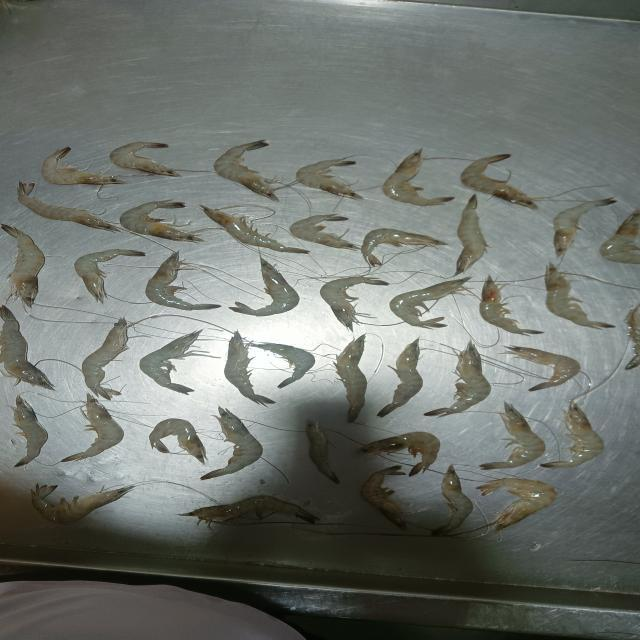shrimp: (397, 465, 472, 533), (18, 182, 122, 231), (425, 340, 490, 415), (203, 206, 306, 251), (545, 263, 615, 327), (201, 406, 262, 479), (140, 329, 208, 394), (1, 305, 53, 389), (214, 140, 286, 200), (180, 496, 315, 528), (60, 394, 123, 462), (481, 403, 545, 469), (146, 252, 219, 309), (390, 276, 471, 327), (461, 154, 538, 207), (479, 478, 556, 531), (541, 402, 603, 467), (383, 149, 454, 205), (32, 484, 135, 522), (231, 257, 298, 315), (82, 318, 128, 399), (553, 198, 615, 256), (75, 249, 144, 301), (224, 330, 273, 403), (1, 225, 44, 307), (321, 276, 386, 330), (378, 338, 423, 415), (359, 432, 439, 475), (480, 278, 540, 335), (121, 201, 202, 241), (506, 346, 579, 390), (361, 228, 445, 266), (42, 147, 124, 185), (362, 466, 408, 530), (334, 334, 367, 423), (253, 342, 315, 387), (296, 158, 363, 199), (150, 418, 206, 463), (456, 194, 487, 273), (290, 214, 359, 249), (12, 397, 47, 466), (111, 142, 179, 177), (305, 421, 339, 483), (601, 210, 639, 263), (626, 305, 639, 369)
